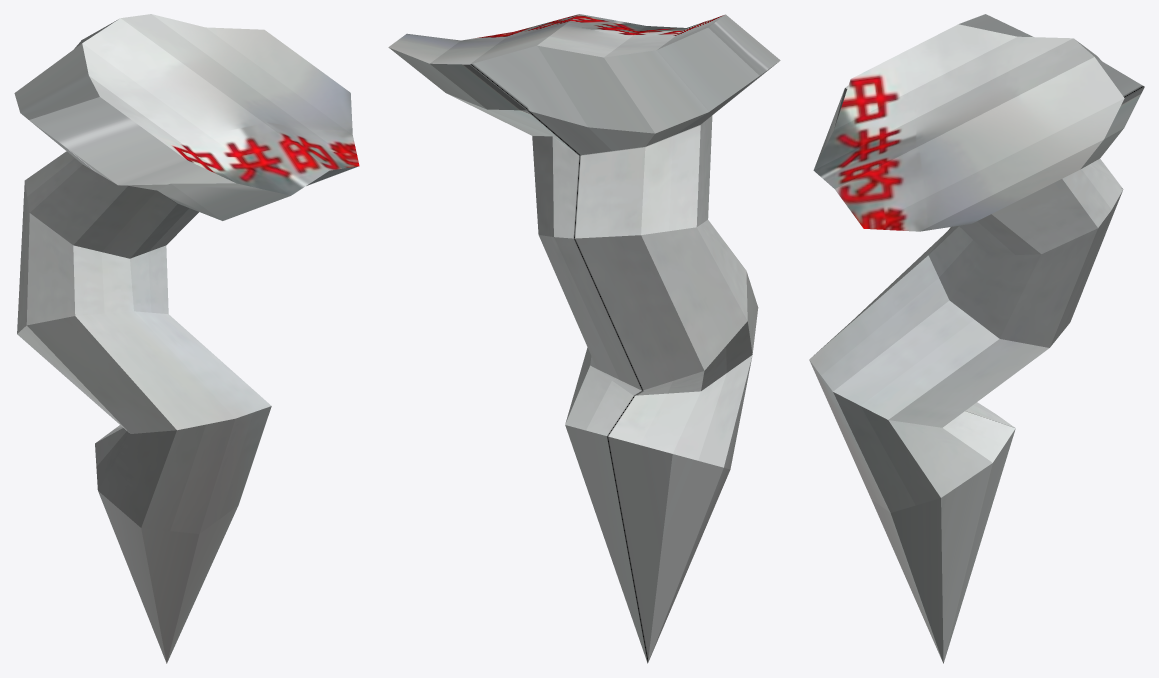
File: Brocked_bolt.fbx
The picture shows the model from 3 angles, left to right: view 1: azimuth 30°, elevation 25°; view 2: azimuth 150°, elevation 25°; view 3: azimuth 270°, elevation 25°; orthographic projection. The views are drawn at different scales.
Visible parts, largest first — view 1: Cylinder; view 2: Cylinder; view 3: Cylinder.
Boxes of the visible parts, bbox=[...] form: Cylinder: bbox=[14, 14, 359, 663]; Cylinder: bbox=[388, 14, 780, 663]; Cylinder: bbox=[809, 14, 1144, 663].
Bounding box in the file's own units: 465 × 828 × 406.
1 material, 1 textured.
